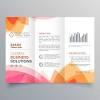paper: (6, 17, 96, 84)
